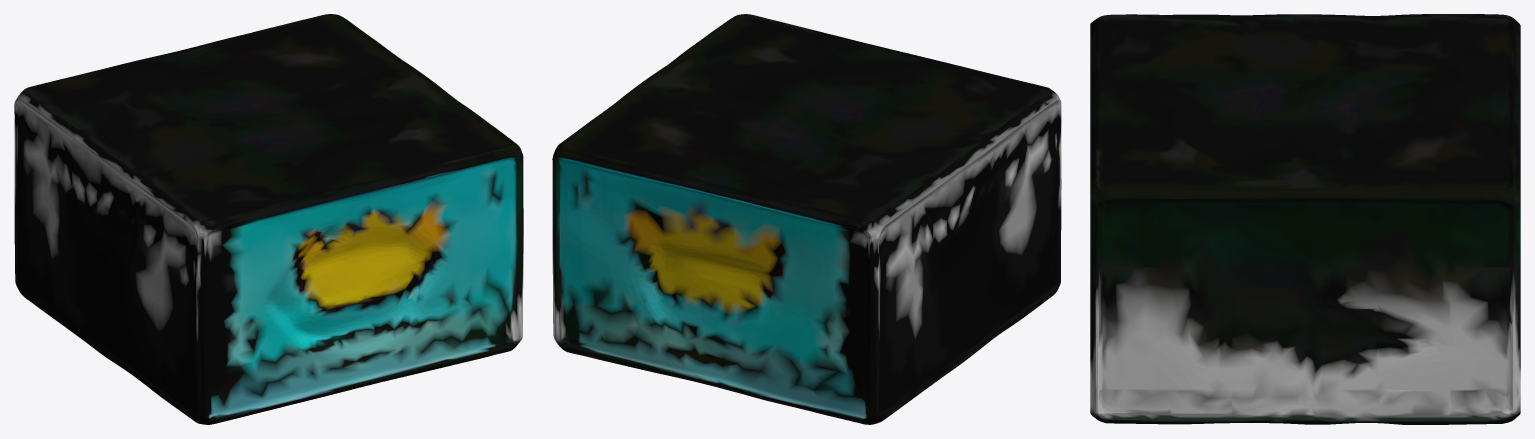
Rendered from imperial.glb.
3 views of the same model, side by side, from view 1: azimuth 30°, elevation 25°; view 2: azimuth 150°, elevation 25°; view 3: azimuth 270°, elevation 25° (orthographic). The views are drawn at different scales.
Parts seen in each view (by area): view 1: geometry_0; view 2: geometry_0; view 3: geometry_0.
Part boxes in pixels (x1,y1,x2,y2): geometry_0: [14, 14, 523, 424]; geometry_0: [552, 14, 1061, 424]; geometry_0: [1090, 14, 1520, 424].
Bounding box in the file's own units: 0.8438 × 0.5086 × 0.8417.
